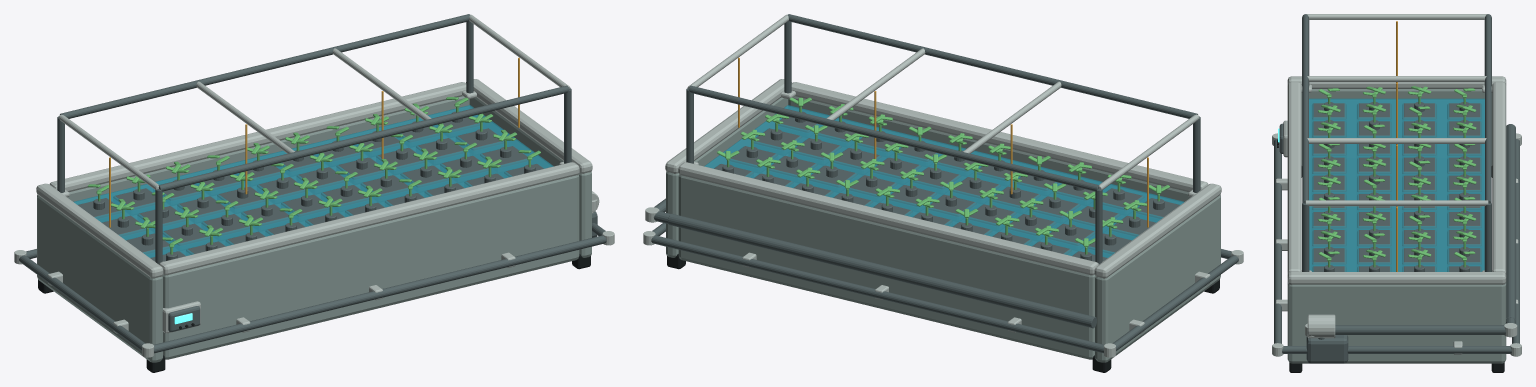
File: Très grand bassin hydroponique.glb
3 views of the same model, side by side, from view 1: azimuth 30°, elevation 25°; view 2: azimuth 150°, elevation 25°; view 3: azimuth 270°, elevation 25° (orthographic). The views are drawn at different scales.
Visible parts, largest first — view 1: 17_xl_hydroponic_basin_Wall_Front, 17_xl_hydroponic_basin_Water_Surface, 17_xl_hydroponic_basin_Wall_Left, 17_xl_hydroponic_basin_Top_Rim_Front, 17_xl_hydroponic_basin_Top_Rim_Rear, 17_xl_hydroponic_basin_Perimeter_Front, 17_xl_hydroponic_basin_Wall_Rear, 17_xl_hydroponic_basin_Gantry_Long_Rail_-1, 17_xl_hydroponic_basin_Gantry_Long_Rail_1, 17_xl_hydroponic_basin_Top_Rim_Left, 17_xl_hydroponic_basin_Wall_Right, 17_xl_hydroponic_basin_Top_Rim_Right (+24 smaller); view 2: 17_xl_hydroponic_basin_Wall_Rear, 17_xl_hydroponic_basin_Water_Surface, 17_xl_hydroponic_basin_Wall_Left, 17_xl_hydroponic_basin_Top_Rim_Rear, 17_xl_hydroponic_basin_Top_Rim_Front, 17_xl_hydroponic_basin_Rear_Manifold, 17_xl_hydroponic_basin_Perimeter_Rear, 17_xl_hydroponic_basin_Gantry_Long_Rail_1, 17_xl_hydroponic_basin_Wall_Front, 17_xl_hydroponic_basin_Gantry_Long_Rail_-1, 17_xl_hydroponic_basin_Top_Rim_Left, 17_xl_hydroponic_basin_Top_Rim_Right (+22 smaller); view 3: 17_xl_hydroponic_basin_Water_Surface, 17_xl_hydroponic_basin_Wall_Right, 17_xl_hydroponic_basin_Top_Rim_Front, 17_xl_hydroponic_basin_Top_Rim_Rear, 17_xl_hydroponic_basin_Top_Rim_Right, 17_xl_hydroponic_basin_Rear_Manifold, 17_xl_hydroponic_basin_Wall_Left, 17_xl_hydroponic_basin_Circulation_Loop_Segment_2, 17_xl_hydroponic_basin_Perimeter_Front, 17_xl_hydroponic_basin_Perimeter_Right, 17_xl_hydroponic_basin_Top_Rim_Left, 17_xl_hydroponic_basin_Gantry_Long_Rail_-1 (+46 smaller).
Boxes of the visible parts, x1=… form: 17_xl_hydroponic_basin_Wall_Front: x1=162, y1=175, x2=579, y2=359; 17_xl_hydroponic_basin_Water_Surface: x1=73, y1=105, x2=553, y2=257; 17_xl_hydroponic_basin_Wall_Left: x1=37, y1=195, x2=162, y2=362; 17_xl_hydroponic_basin_Top_Rim_Front: x1=159, y1=162, x2=579, y2=275; 17_xl_hydroponic_basin_Top_Rim_Rear: x1=49, y1=82, x2=466, y2=192; 17_xl_hydroponic_basin_Perimeter_Front: x1=154, y1=235, x2=606, y2=353; 17_xl_hydroponic_basin_Wall_Rear: x1=67, y1=96, x2=469, y2=201; 17_xl_hydroponic_basin_Gantry_Long_Rail_-1: x1=158, y1=85, x2=569, y2=191; 17_xl_hydroponic_basin_Gantry_Long_Rail_1: x1=60, y1=14, x2=470, y2=118; 17_xl_hydroponic_basin_Top_Rim_Left: x1=36, y1=183, x2=163, y2=278; 17_xl_hydroponic_basin_Wall_Right: x1=469, y1=97, x2=591, y2=257; 17_xl_hydroponic_basin_Top_Rim_Right: x1=466, y1=79, x2=592, y2=173; 17_xl_hydroponic_basin_Wall_Rear: x1=678, y1=175, x2=1095, y2=359; 17_xl_hydroponic_basin_Water_Surface: x1=704, y1=105, x2=1184, y2=257; 17_xl_hydroponic_basin_Wall_Left: x1=1095, y1=195, x2=1220, y2=362; 17_xl_hydroponic_basin_Top_Rim_Rear: x1=678, y1=162, x2=1098, y2=275; 17_xl_hydroponic_basin_Top_Rim_Front: x1=791, y1=82, x2=1208, y2=192; 17_xl_hydroponic_basin_Rear_Manifold: x1=668, y1=214, x2=1096, y2=328; 17_xl_hydroponic_basin_Perimeter_Rear: x1=651, y1=235, x2=1103, y2=353; 17_xl_hydroponic_basin_Gantry_Long_Rail_1: x1=688, y1=85, x2=1099, y2=191; 17_xl_hydroponic_basin_Wall_Front: x1=788, y1=96, x2=1190, y2=201; 17_xl_hydroponic_basin_Gantry_Long_Rail_-1: x1=787, y1=14, x2=1197, y2=118; 17_xl_hydroponic_basin_Top_Rim_Left: x1=1094, y1=183, x2=1221, y2=278; 17_xl_hydroponic_basin_Top_Rim_Right: x1=665, y1=79, x2=791, y2=173; 17_xl_hydroponic_basin_Water_Surface: x1=1309, y1=98, x2=1484, y2=271; 17_xl_hydroponic_basin_Wall_Right: x1=1287, y1=282, x2=1506, y2=363; 17_xl_hydroponic_basin_Top_Rim_Front: x1=1287, y1=82, x2=1301, y2=274; 17_xl_hydroponic_basin_Top_Rim_Rear: x1=1492, y1=82, x2=1506, y2=274; 17_xl_hydroponic_basin_Top_Rim_Right: x1=1287, y1=272, x2=1506, y2=284; 17_xl_hydroponic_basin_Rear_Manifold: x1=1506, y1=124, x2=1515, y2=322; 17_xl_hydroponic_basin_Wall_Left: x1=1301, y1=89, x2=1492, y2=165; 17_xl_hydroponic_basin_Circulation_Loop_Segment_2: x1=1335, y1=325, x2=1505, y2=334; 17_xl_hydroponic_basin_Perimeter_Front: x1=1274, y1=139, x2=1281, y2=343; 17_xl_hydroponic_basin_Perimeter_Right: x1=1282, y1=346, x2=1511, y2=353; 17_xl_hydroponic_basin_Top_Rim_Left: x1=1287, y1=76, x2=1506, y2=88; 17_xl_hydroponic_basin_Gantry_Long_Rail_-1: x1=1302, y1=14, x2=1308, y2=203.
Size of the model in its own units: 5.14 by 1.85 by 2.52.
